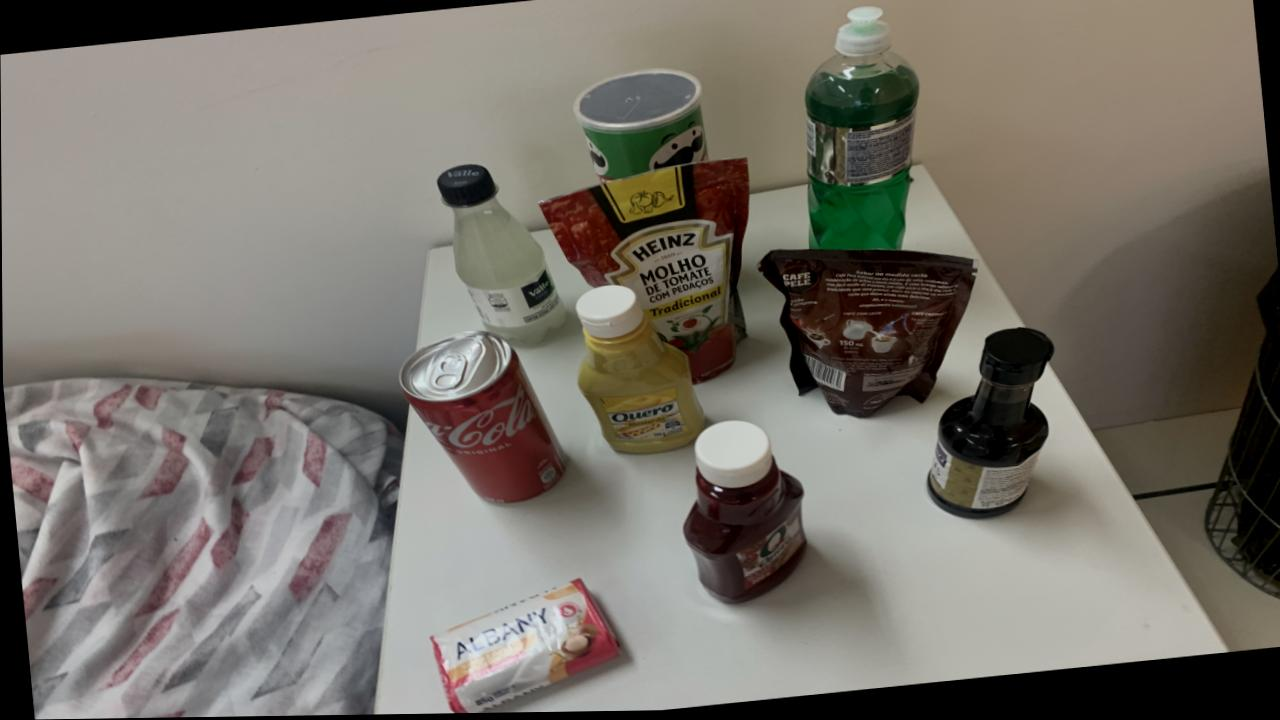Coffee-Pantry_Items: (757, 251, 976, 420)
Coke-Drinks: (398, 332, 565, 505)
Detergent-Cleanup_Items: (804, 8, 919, 253)
English_Sauce-Pantry_Items: (926, 330, 1054, 522)
Ketchup-Pantry_Items: (681, 422, 806, 606)
Mustard-Pantry_Items: (575, 286, 704, 456)
Pringles-Snacks: (572, 70, 707, 185)
Soap-Cleanup_Items: (430, 581, 618, 715)
Soda-Drinks: (435, 166, 566, 347)
Tomato_Sauce-Pantry_Items: (540, 160, 749, 385)
